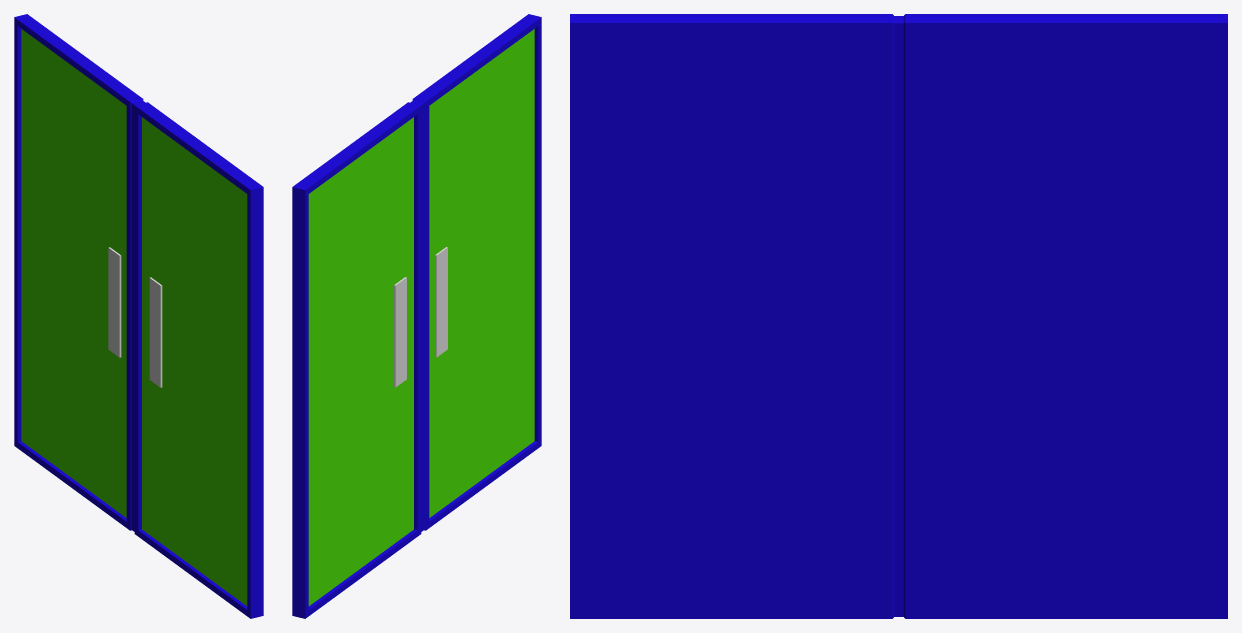
File: DoubleDoor.fbx
3 renders of one model, left to right at view 1: azimuth 30°, elevation 25°; view 2: azimuth 150°, elevation 25°; view 3: azimuth 270°, elevation 25°, orthographic. The views are drawn at different scales.
Parts seen in each view (by area): view 1: DoubleDoor; view 2: DoubleDoor; view 3: DoubleDoor.
Boxes of the visible parts, x1,y1,x2,y2 form: DoubleDoor: (14,14,263,618); DoubleDoor: (292,14,541,618); DoubleDoor: (570,14,1227,618).
Size of the model in its own units: 6.37 by 200 by 200.
